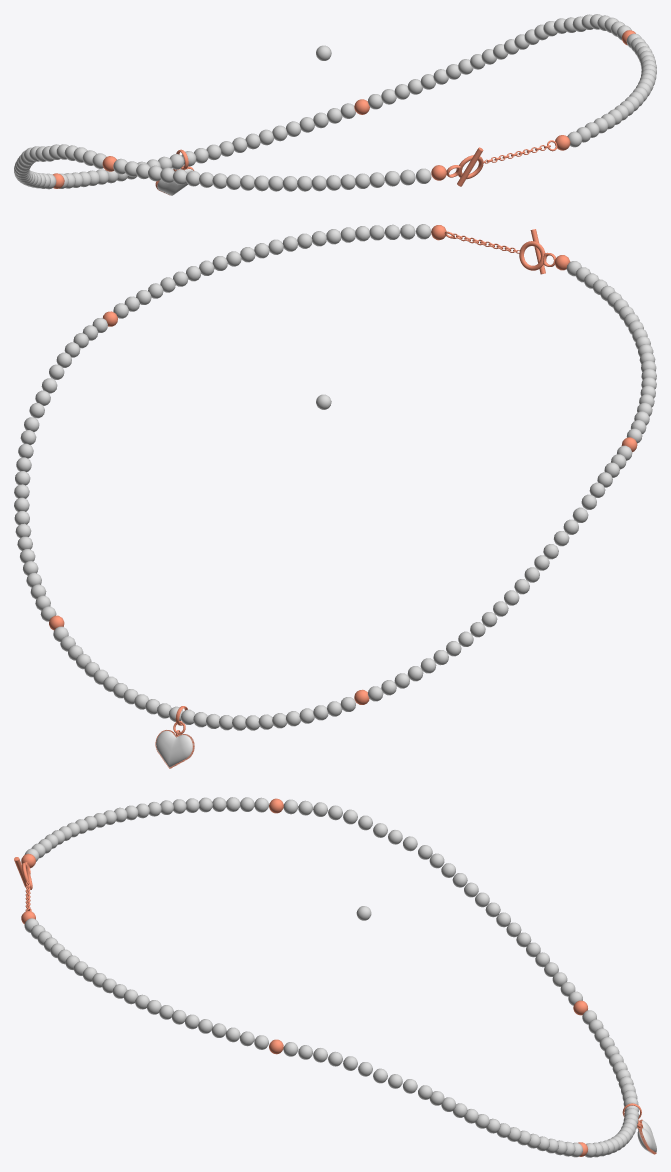
Rendered from necklace_1.fbx.
The picture shows the model from 3 angles, top to bottom: view 1: azimuth 30°, elevation 25°; view 2: azimuth 150°, elevation 25°; view 3: azimuth 270°, elevation 25°; orthographic projection. The views are drawn at different scales.
Visible parts, largest first — view 1: Torus.021, 큐브; view 2: 큐브; view 3: no part large enough to name.
Part boxes in pixels (box(x1,y1,x2,y2)): Torus.021: box(446, 155, 483, 179); 큐브: box(157, 169, 193, 195); 큐브: box(156, 731, 192, 767).
Bounding box in the file's own units: 143 × 75.26 × 154.
